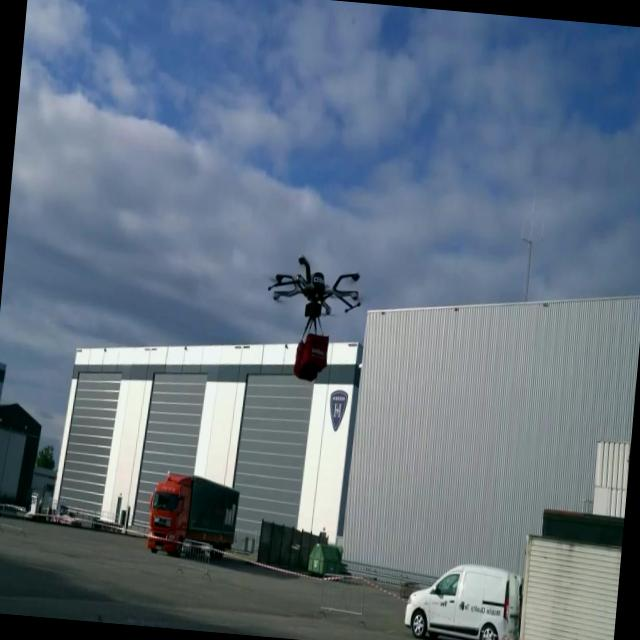drone: (260, 250, 367, 386)
